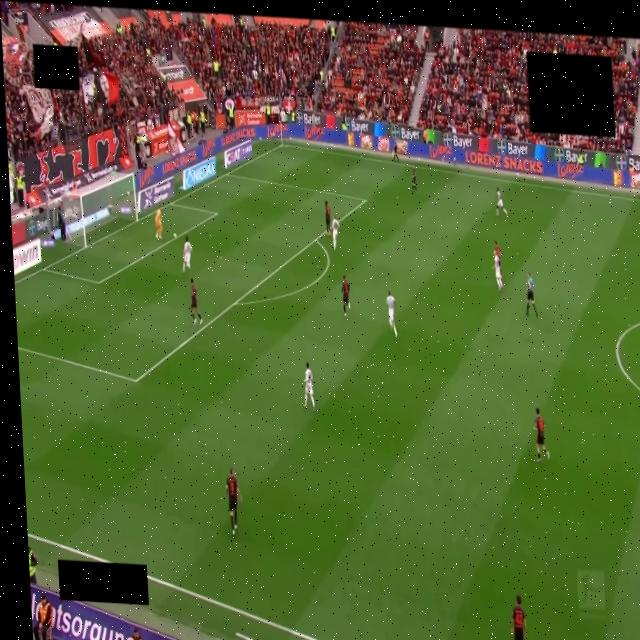ball: (174, 234, 176, 238)
player: (226, 468, 241, 535), (534, 408, 549, 463), (511, 595, 525, 639), (191, 278, 202, 325), (386, 292, 397, 337), (304, 362, 314, 410), (331, 217, 341, 250), (342, 276, 350, 316), (494, 253, 502, 292), (496, 189, 507, 216), (183, 236, 191, 273), (325, 202, 331, 235), (156, 209, 162, 240), (494, 242, 501, 268), (412, 168, 417, 191)
referee: (526, 272, 538, 315)
